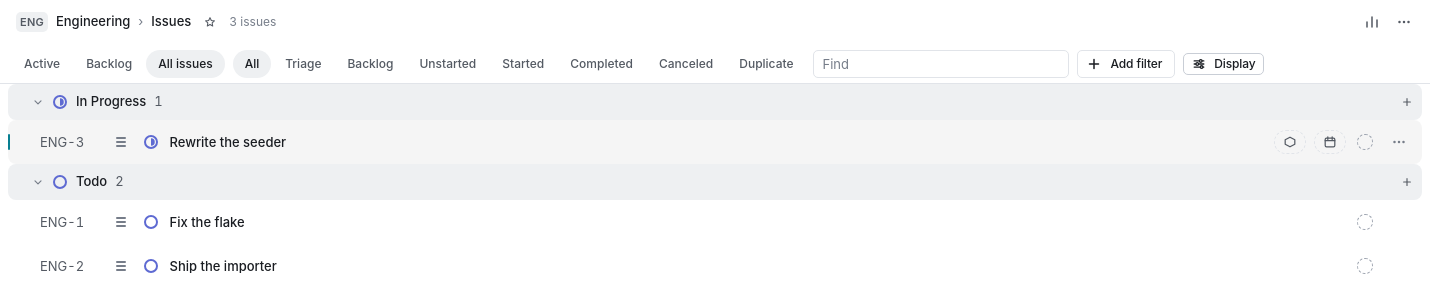
Test: in-view find › says a find matched nothing, and clears it from the empty state
This screenshot has width=1440, height=291.
Type "nothingatall" into the field named "Find in list" at (942,64), box [822, 50, 1060, 76]
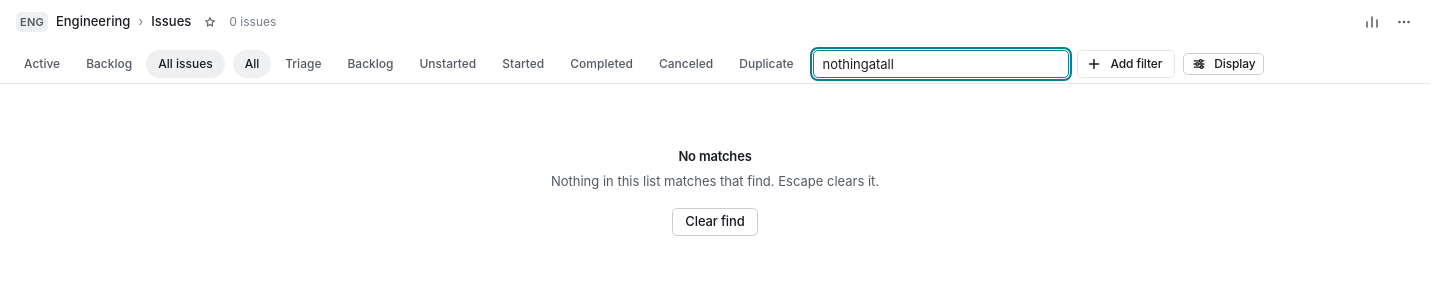
Check: the text "No matches" is shown, box [678, 148, 752, 164]
Click the button "Clear find" at (715,222), box [672, 208, 758, 236]
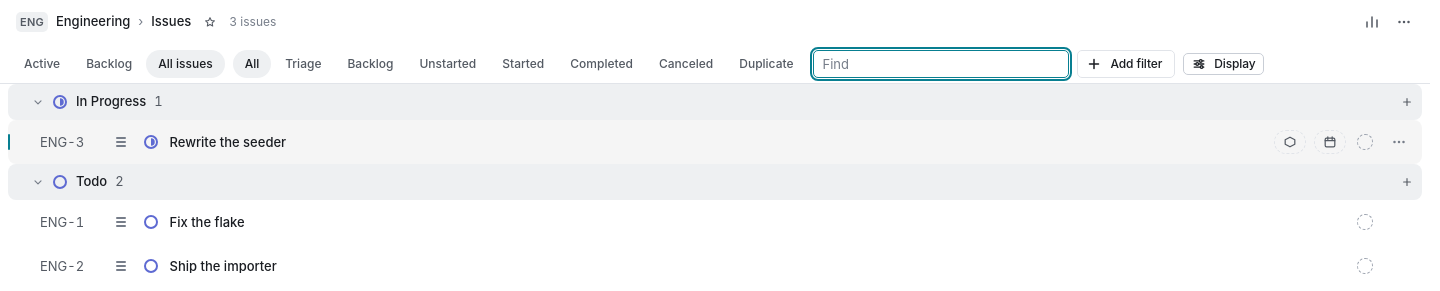
Check: the text "Fix the flake" is shown, box [170, 214, 245, 230]
